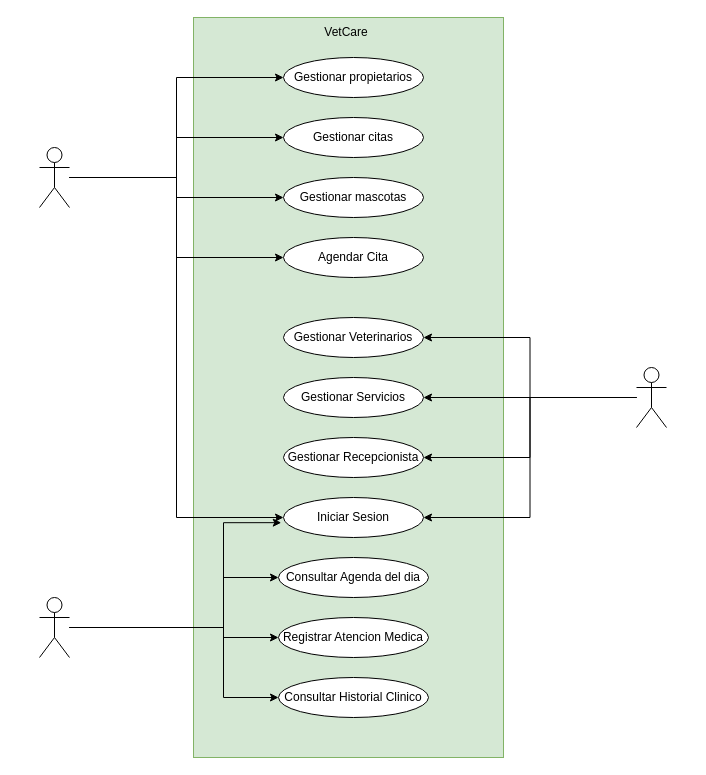
The diagram is 706 pixels wide and 775 high, and some of its shapes have lost their labels. Each missing label, with the centre of its shape:
"Administrador" belongs at point (651, 397).
"Recepcionista" belongs at point (54, 177).
"Veterinario" belongs at point (54, 627).
